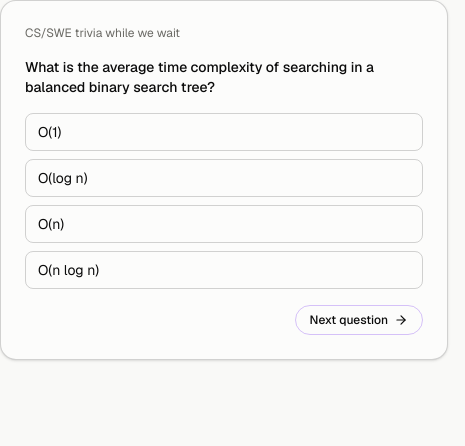
Test: TriviaQuiz › selecting the correct answer scores it correct and shows the explanation
Click the button "O(log n)". click: click(63, 178)
box: [25,159,423,197]
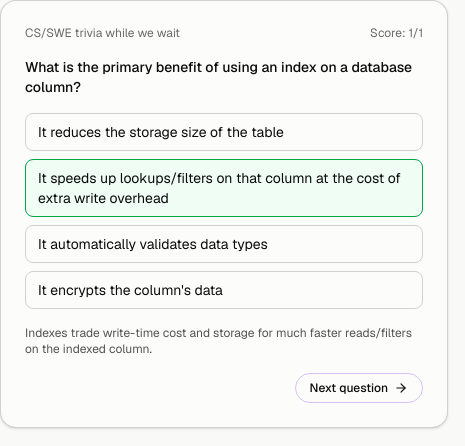
Result: the text "Score: 1/1" is shown at [370,25,423,41]
Result: the text "A balanced BST halves the search space at each step, giving O(log n)." is shown at [25,325,423,357]
